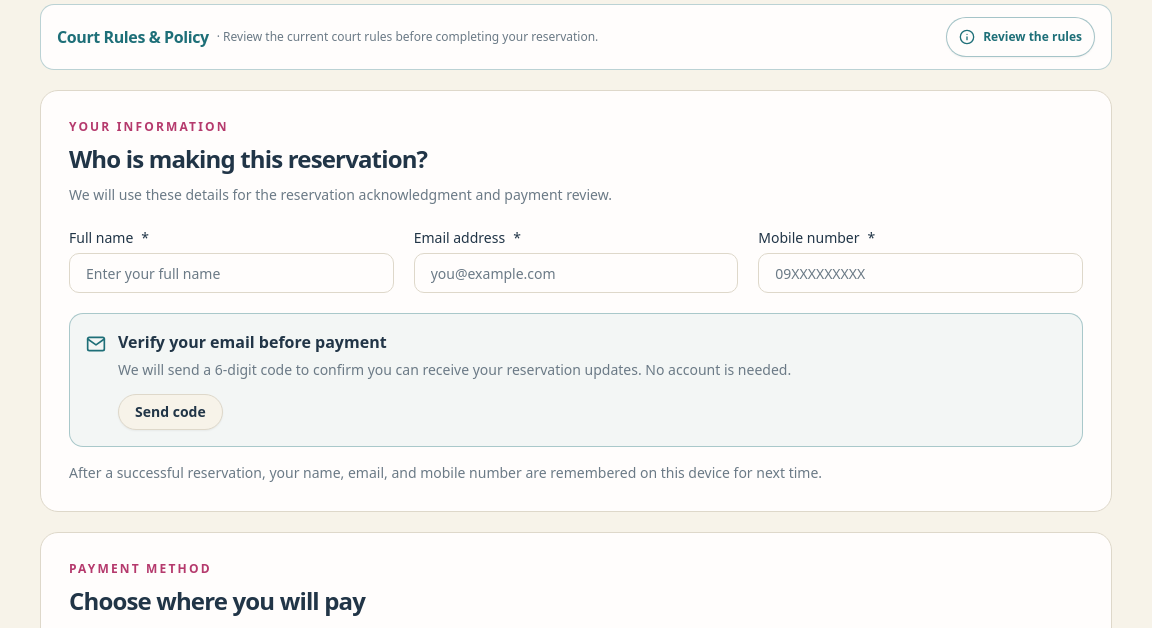
Test case: ReservationCheckout › shows inline validation errors when required fields are missing
(page scrolled)
Type "mark@example.com" into the field labelled "Email address". click: (576, 273)
box: [414,253,738,293]
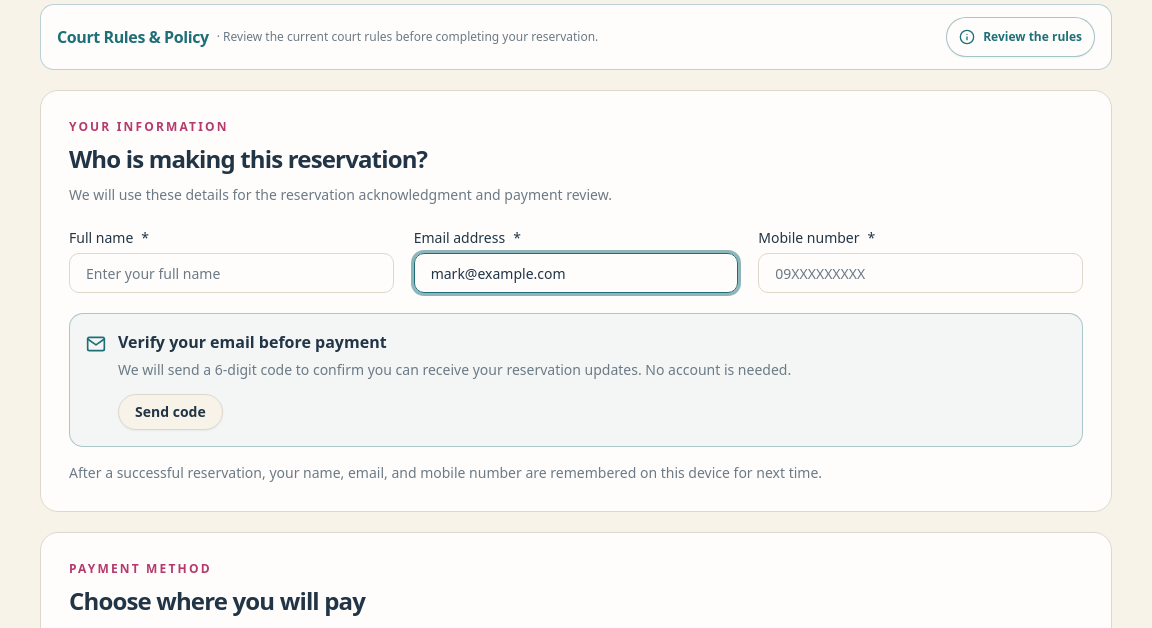
Click the button "Send code". click: (170, 412)
box: [118,394,223,430]
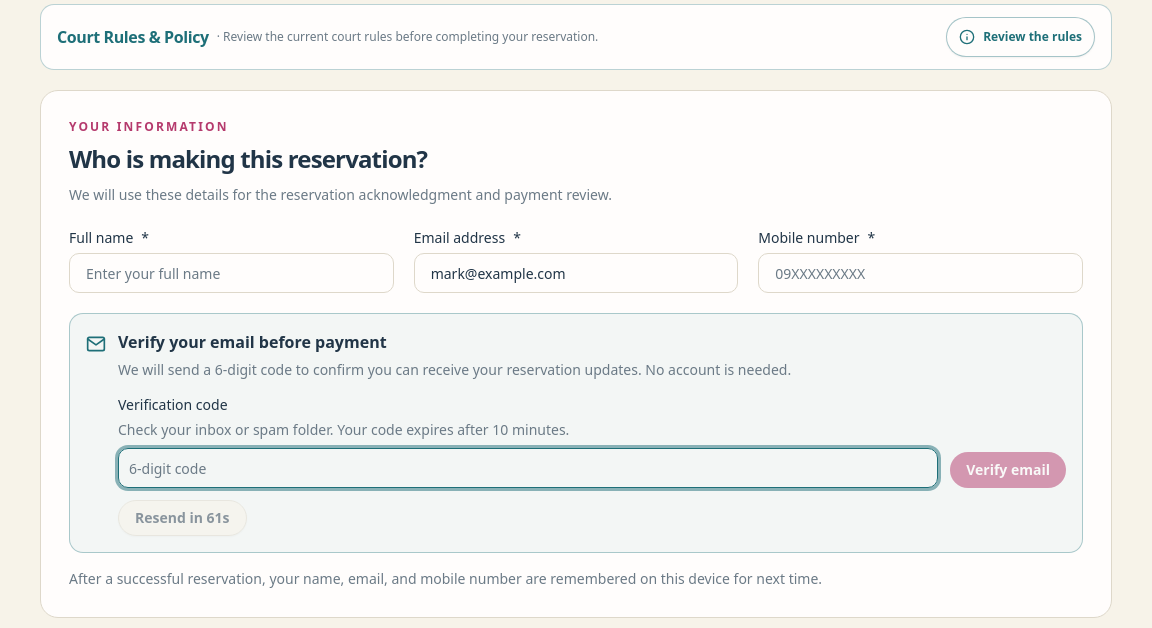
Type "123456" into the field labelled "Verification code". click: (528, 468)
box: [118,448,938,488]
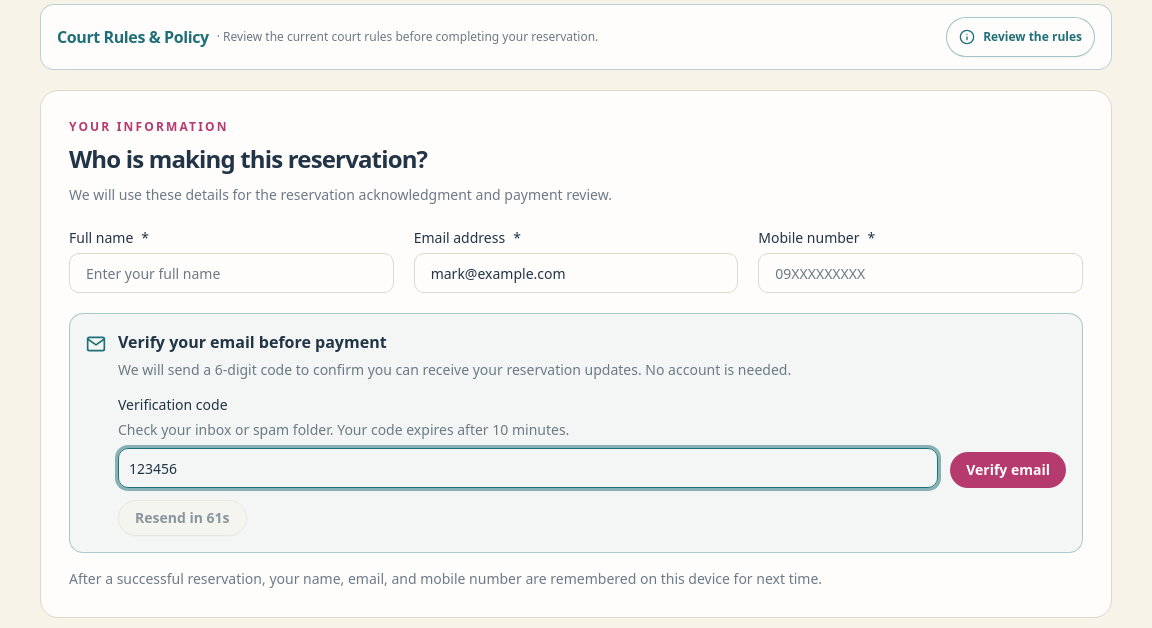
Click the button "Verify email". click: (1008, 470)
box: [950,452,1066,488]
(page scrolled)
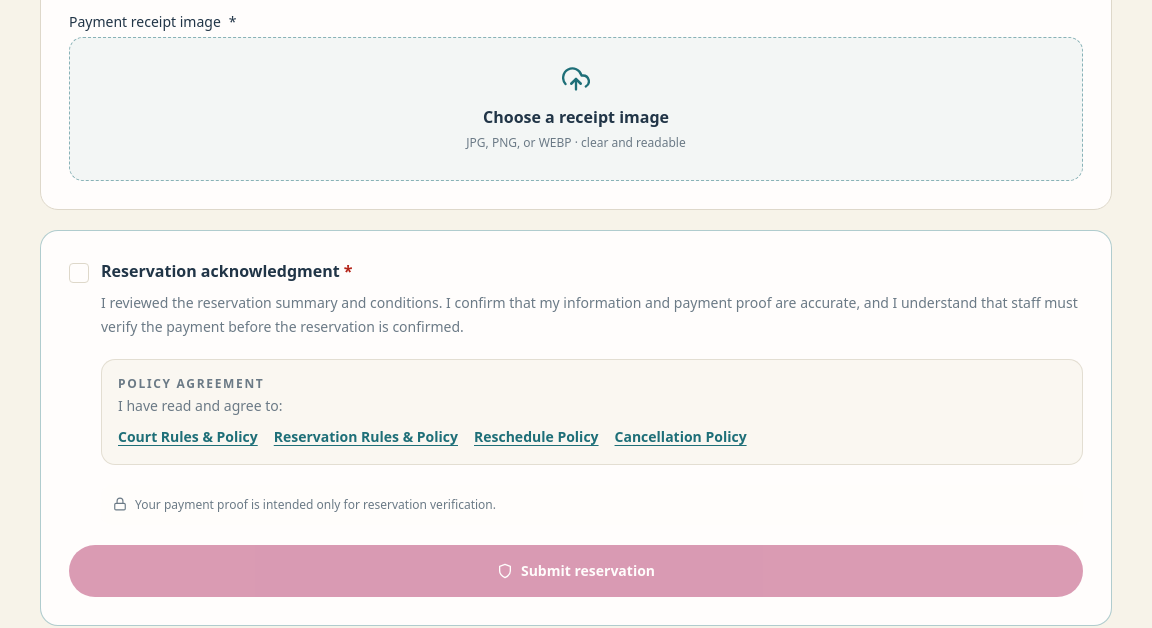
Click the checkbox named "Reservation acknowledgment". click: (79, 273)
box: [69,263,89,283]
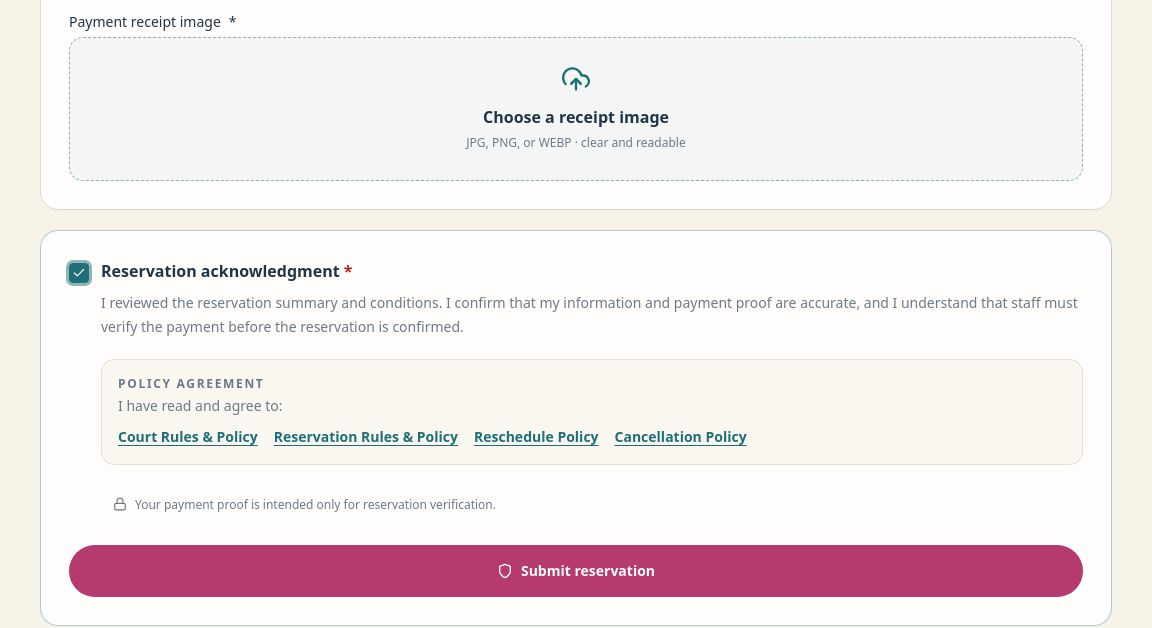
Click the button "Submit reservation". click: (576, 571)
box: [69,545,1083,597]
(page scrolled)
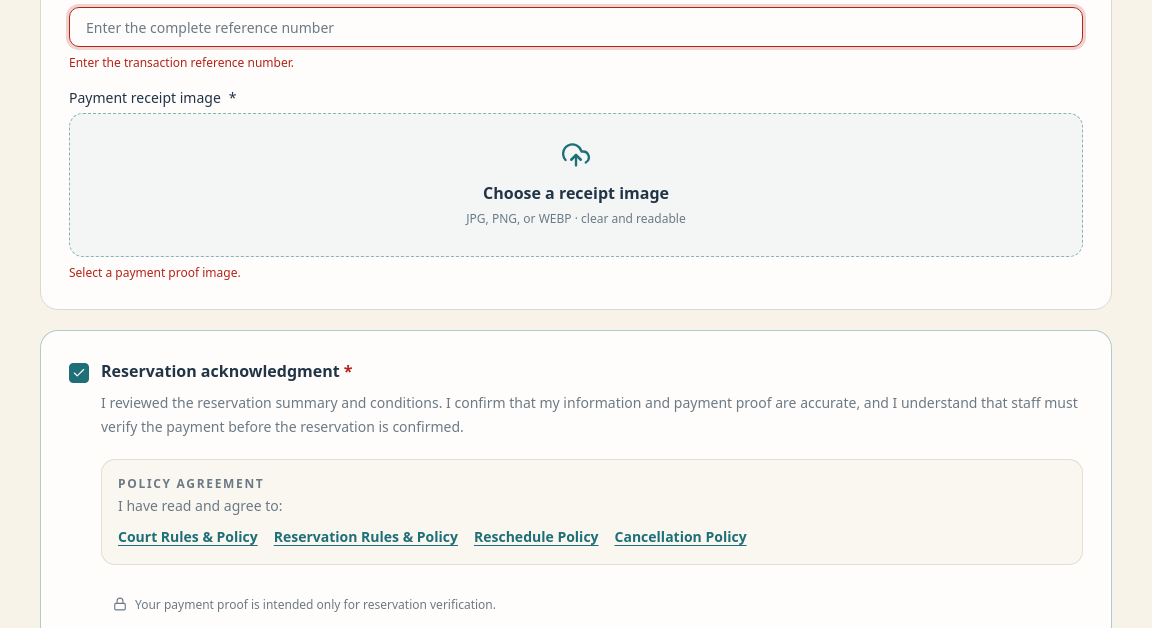
Now the text "Enter the transaction reference number." is shown, box [69,54,294,71]
Now the text "Select a payment proof image." is shown, box [69,264,241,281]
